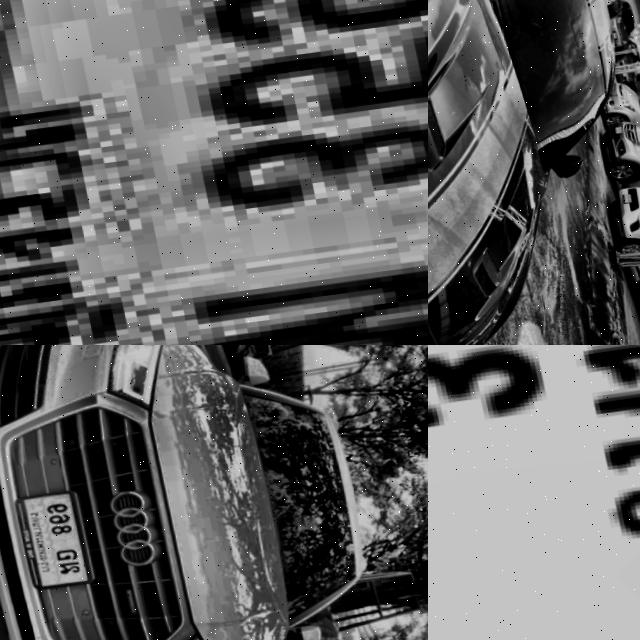license-plate: (0, 0, 428, 345), (428, 345, 640, 640), (3, 488, 95, 593), (611, 194, 625, 205), (604, 127, 618, 136)
